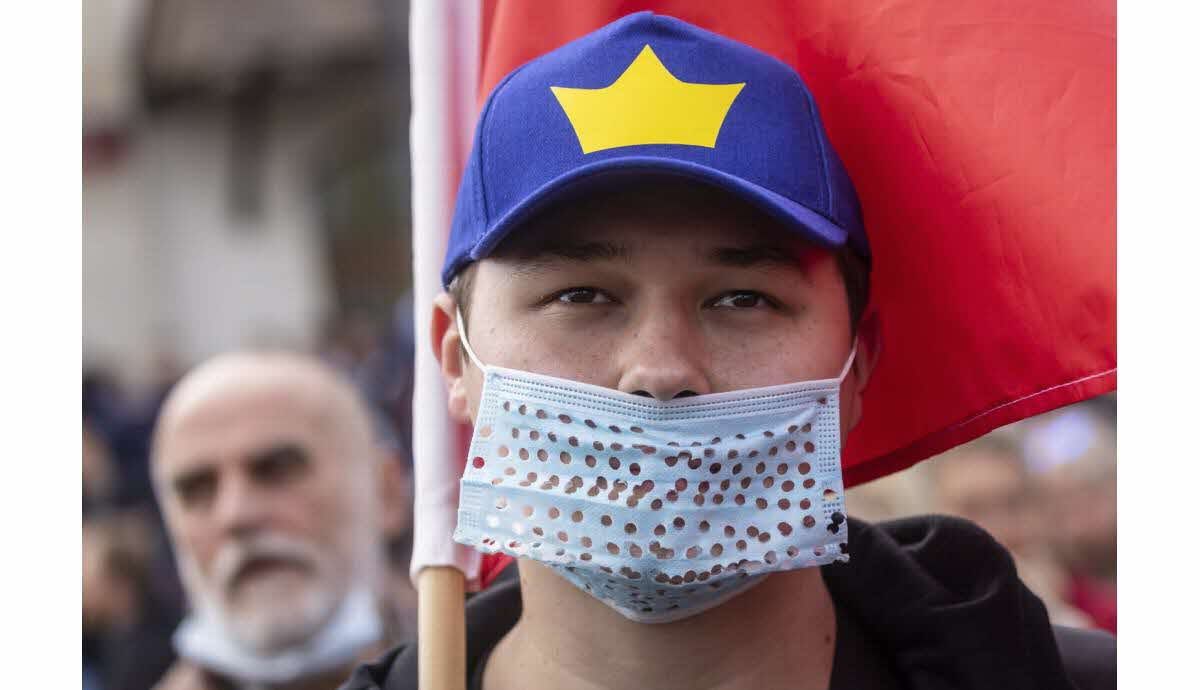with_incorrect_mask: (466, 231, 834, 617)
